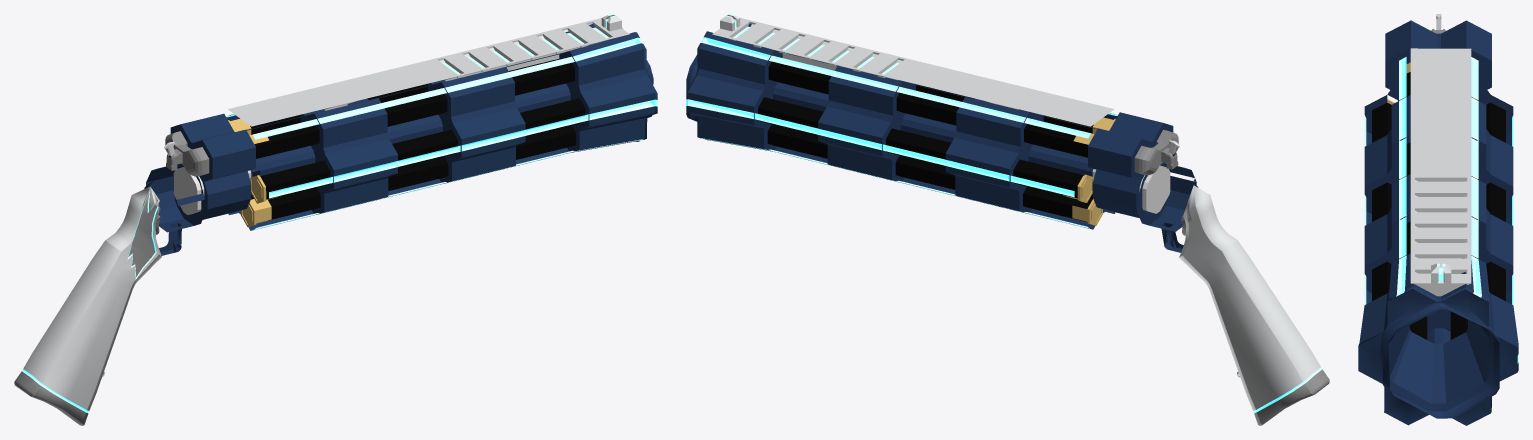
Rendered from gunblend.fbx.
The picture shows the model from 3 angles, left to right: view 1: azimuth 30°, elevation 25°; view 2: azimuth 150°, elevation 25°; view 3: azimuth 270°, elevation 25°; orthographic projection. The views are drawn at different scales.
Visible parts, largest first — view 1: Cercle.021, Remington870.001, Cercle, Cercle.020, Cercle.008, Cercle.002, Cercle.007, Cercle.003, Cercle.004, Cercle.011; view 2: Remington870.001, Cercle.021, Cercle, Cercle.020, Cercle.008, Cercle.002, Cercle.007, Cercle.003, Cercle.004; view 3: Cercle.021, Cercle.008, Cercle, Cercle.020, Cercle.002.
Part boxes in pixels (box(x1,y1,x2,y2)): Cercle.021: box(506, 24, 657, 167); Remington870.001: box(14, 186, 161, 425); Cercle: box(226, 98, 397, 230); Cercle.020: box(367, 67, 525, 198); Cercle.008: box(228, 14, 629, 126); Cercle.002: box(170, 113, 255, 219); Cercle.007: box(144, 164, 204, 255); Cercle.003: box(164, 131, 209, 176); Cercle.004: box(173, 167, 204, 214); Cercle.011: box(240, 199, 271, 226); Remington870.001: box(1179, 185, 1329, 425); Cercle.021: box(686, 23, 837, 166); Cercle: box(945, 97, 1117, 229); Cercle.020: box(818, 65, 974, 197); Cercle.008: box(712, 14, 1114, 126); Cercle.002: box(1088, 112, 1173, 217); Cercle.007: box(1137, 162, 1198, 252); Cercle.003: box(1134, 129, 1179, 175); Cercle.004: box(1139, 165, 1170, 213); Cercle.021: box(1358, 215, 1518, 425); Cercle.008: box(1410, 48, 1471, 296); Cercle: box(1364, 55, 1513, 213); Cercle.020: box(1364, 134, 1513, 331); Cercle.002: box(1385, 20, 1491, 101).
Size of the model in its own units: 3442 by 1490 by 613.
